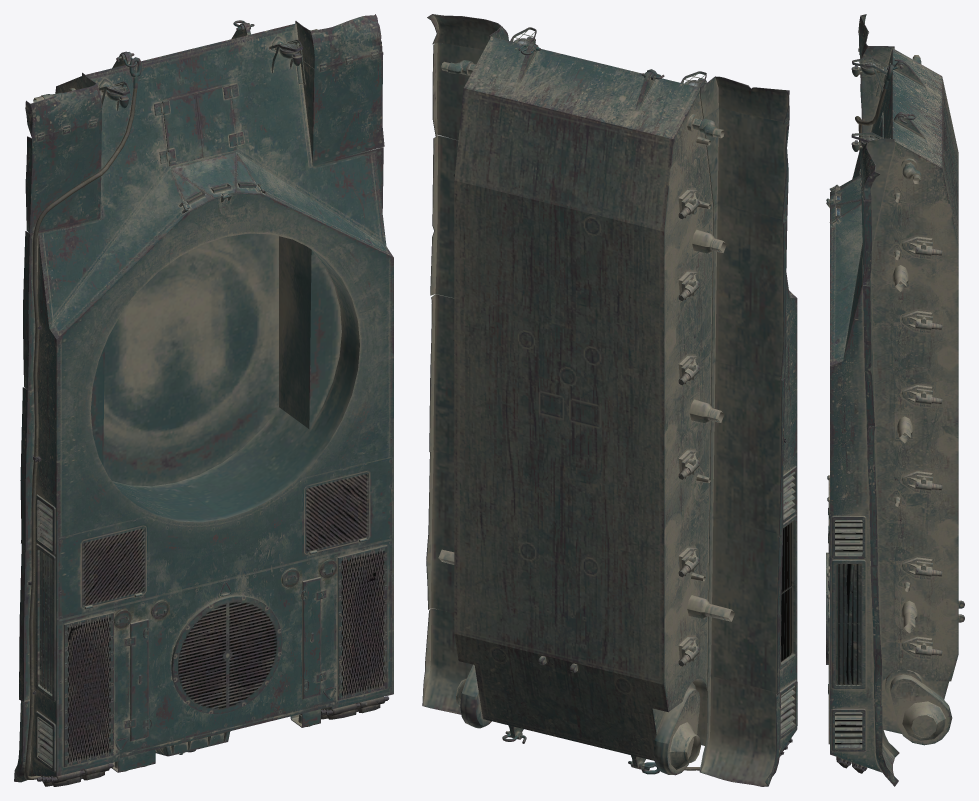
File: Hull.glb
The picture shows the model from 3 angles, left to right: view 1: azimuth 30°, elevation 25°; view 2: azimuth 150°, elevation 25°; view 3: azimuth 270°, elevation 25°; orthographic projection. The views are drawn at different scales.
Parts seen in each view (by area): view 1: set_0_group_0; view 2: set_0_group_0; view 3: set_0_group_0.
Part boxes in pixels (left/top/right/bottom): set_0_group_0: left=14, top=14, right=393, bottom=786; set_0_group_0: left=422, top=14, right=797, bottom=786; set_0_group_0: left=826, top=14, right=964, bottom=786.
Size of the model in its own units: 3.33 by 6.24 by 1.26.
Materials: 1 (1 with a texture image).
